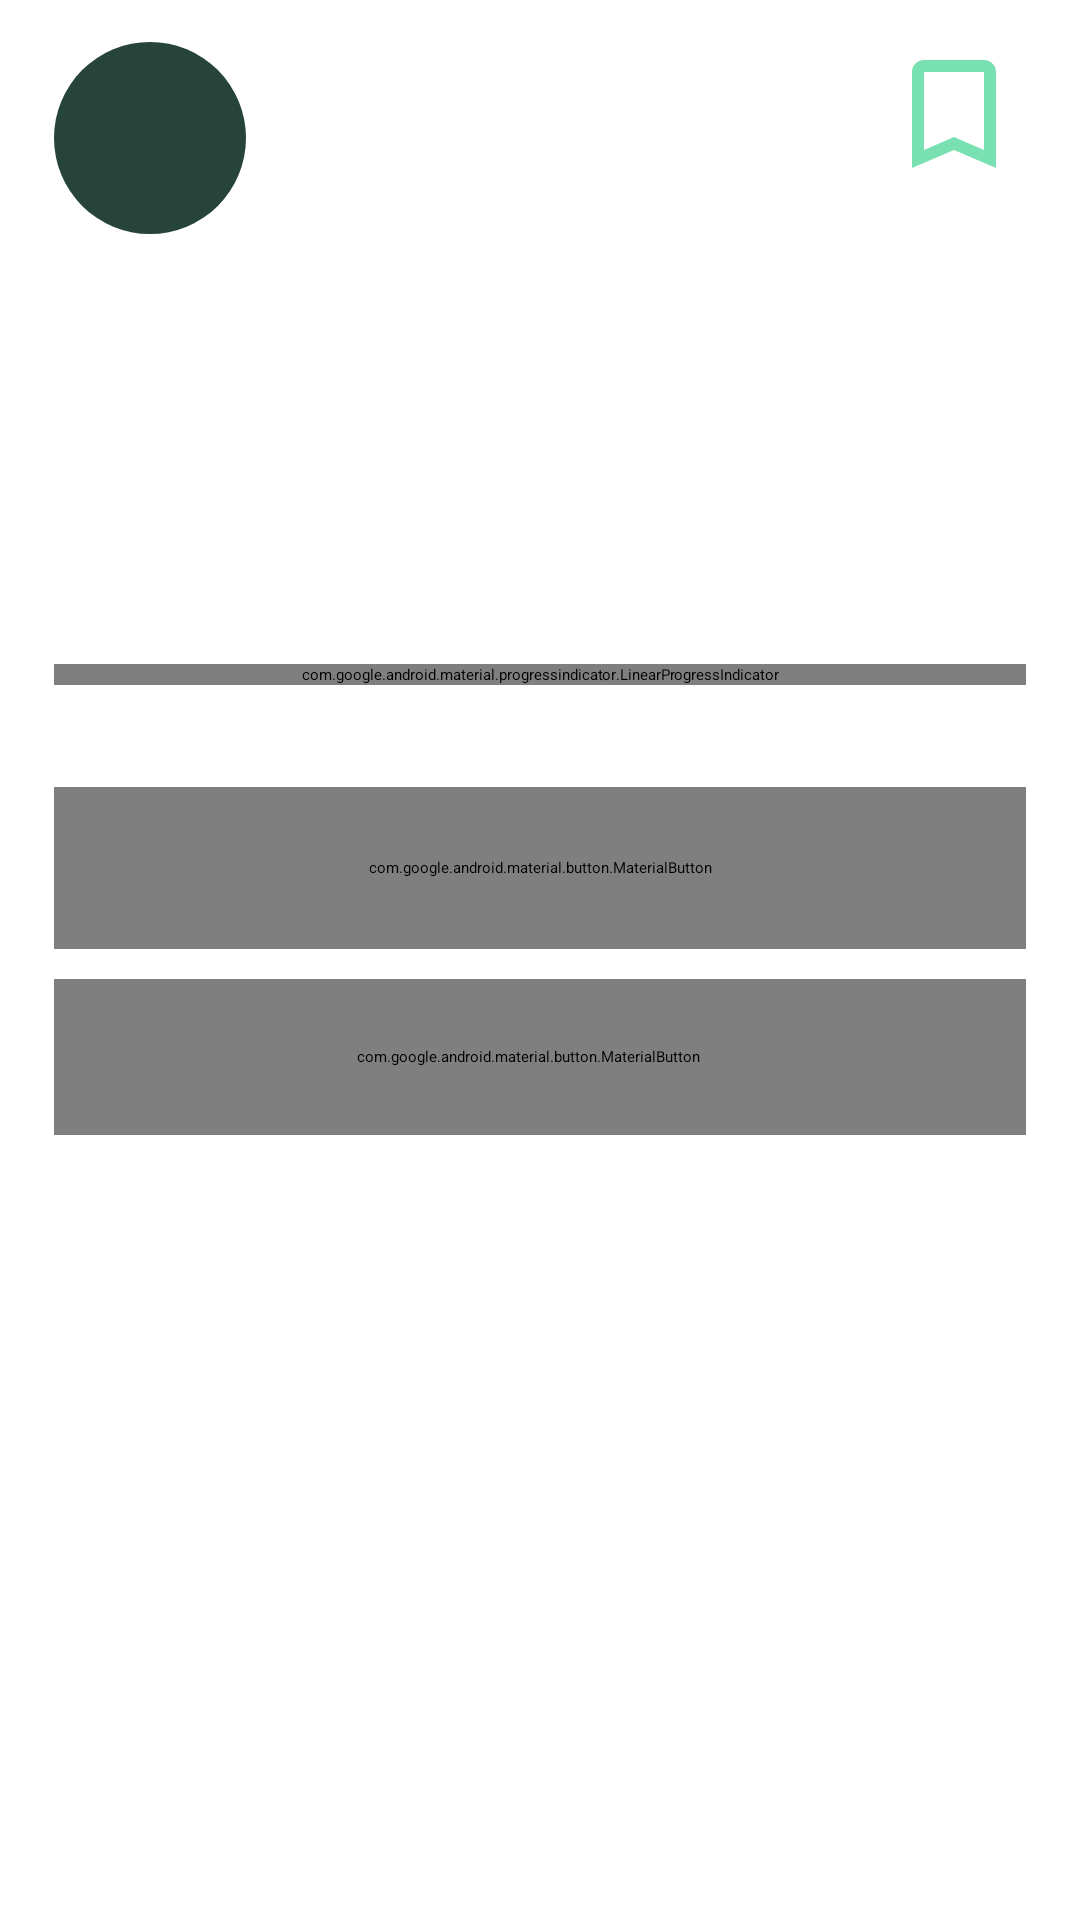

Named icons in this screenshot (1080px×1920px) and their centers, (x,y):
Saved: (954,114)
